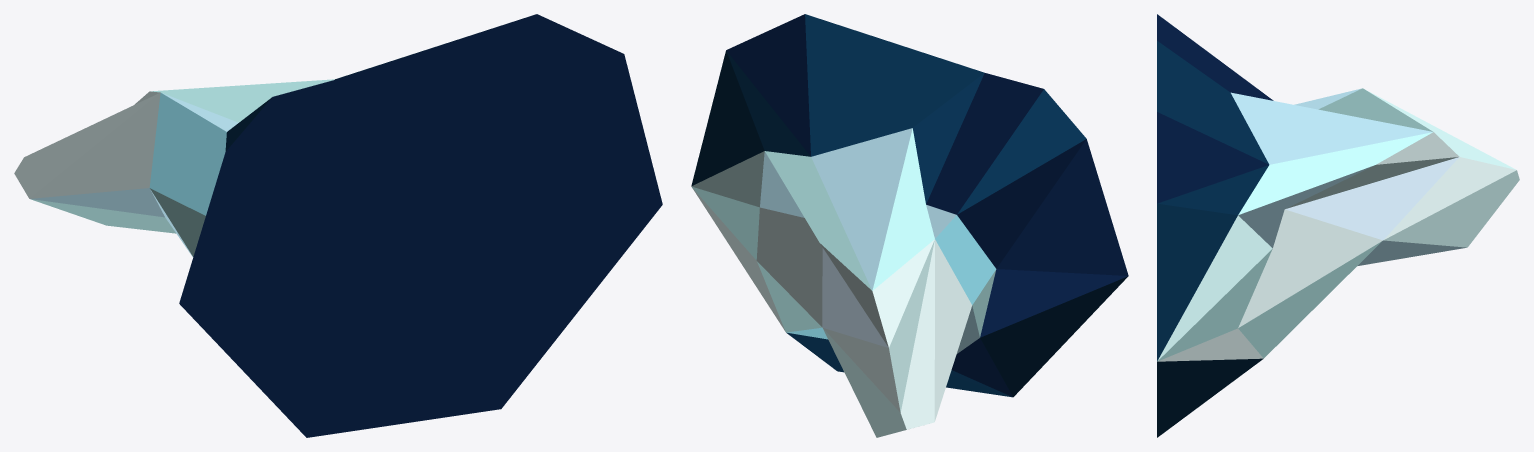
Rendered from winter_middle_rock_2.fbx.
3 renders of one model, left to right at view 1: azimuth 30°, elevation 25°; view 2: azimuth 150°, elevation 25°; view 3: azimuth 270°, elevation 25°, orthographic. The views are drawn at different scales.
Visible parts, largest first — view 1: winter_middle_rock_2; view 2: winter_middle_rock_2; view 3: winter_middle_rock_2.
Boxes of the visible parts, x1,y1,x2,y2 form: winter_middle_rock_2: (14,14,662,437); winter_middle_rock_2: (691,14,1128,437); winter_middle_rock_2: (1157,14,1519,437).
Size of the model in its own units: 346 by 264 by 254.
